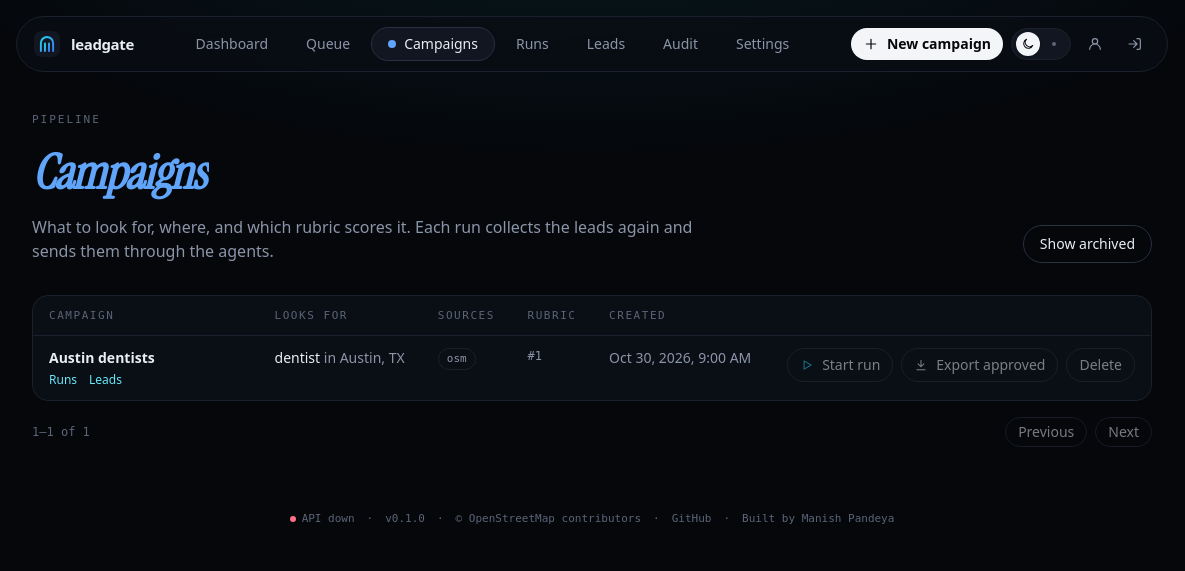
Scenario: the public demo's login › sees New campaign, Settings and the campaign buttons, locked
Expected: the link "New campaign" is shown, [851, 28, 1003, 60]
Expected: the link "Settings" is shown, [736, 34, 789, 53]
Click the button "Start run" at (840, 365), box [787, 348, 893, 382]
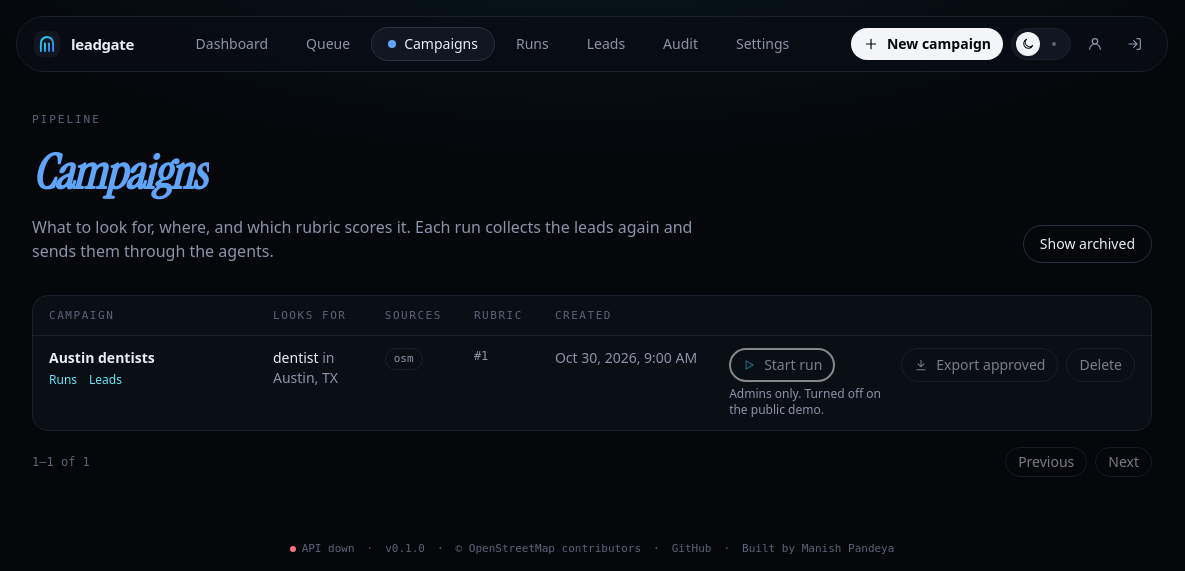
Expected: the message reads "Admins only. Turned off on the public demo.", [729, 385, 881, 418]
